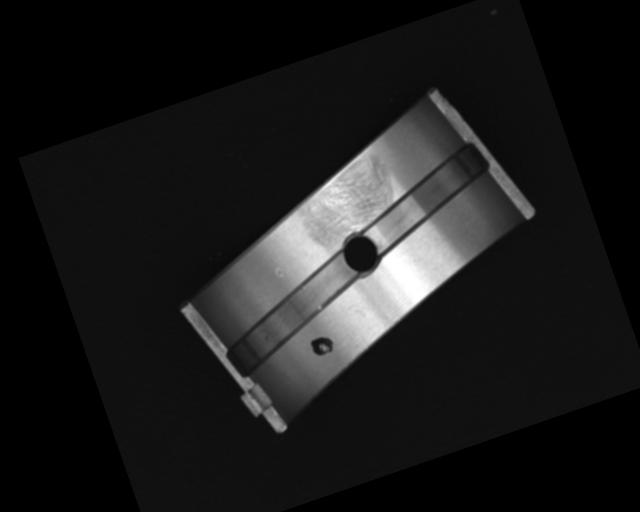blot: (307, 332, 338, 361)
bruise: (273, 265, 285, 281)
gap: (211, 248, 376, 374), (348, 141, 502, 254)
hole: (336, 227, 386, 281)
scratch: (290, 148, 406, 251)
